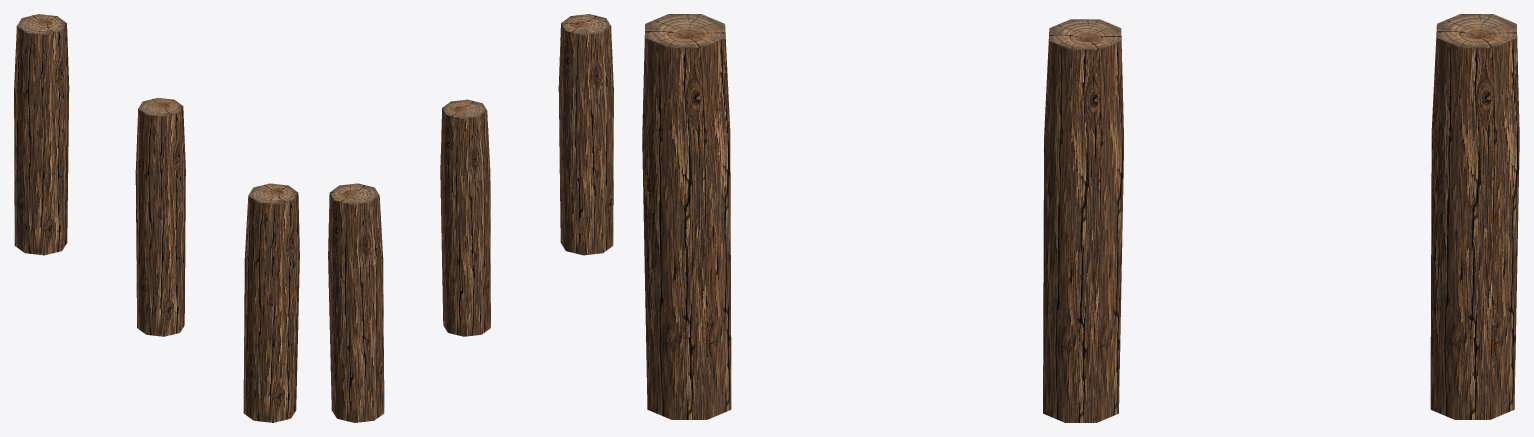
Rendered from lake01-housepiles.glb.
The picture shows the model from 3 angles, left to right: view 1: azimuth 30°, elevation 25°; view 2: azimuth 150°, elevation 25°; view 3: azimuth 270°, elevation 25°; orthographic projection. The views are drawn at different scales.
Visible parts, largest first — view 1: housepiles; view 2: housepiles; view 3: housepiles.
Boxes of the visible parts, x1,y1,x2,y2 form: housepiles: (14, 14, 299, 422); housepiles: (328, 14, 613, 422); housepiles: (642, 14, 1519, 422).
Size of the model in its own units: 0.2179 by 0.952 by 2.03.
2 materials, 2 textured.
